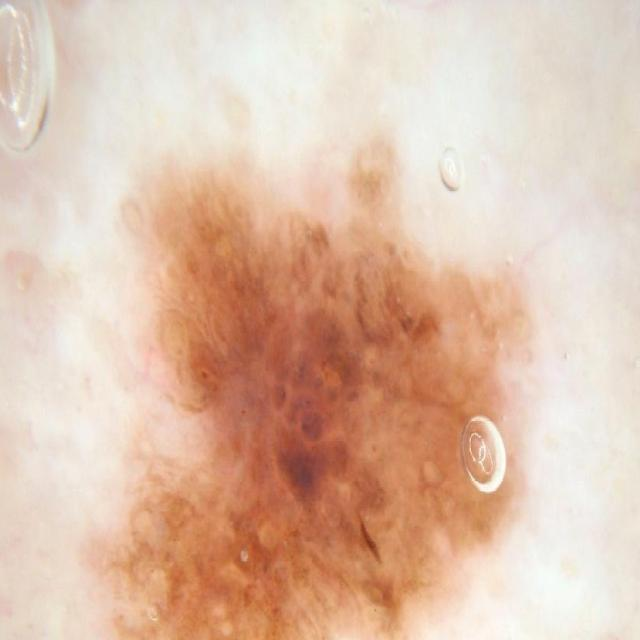Melanoma: (86, 134, 614, 640)
